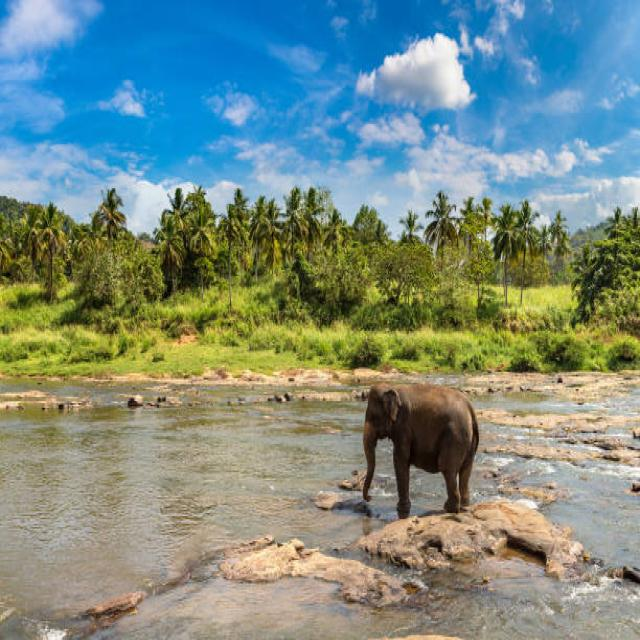Elephant: (356, 370, 488, 522)
